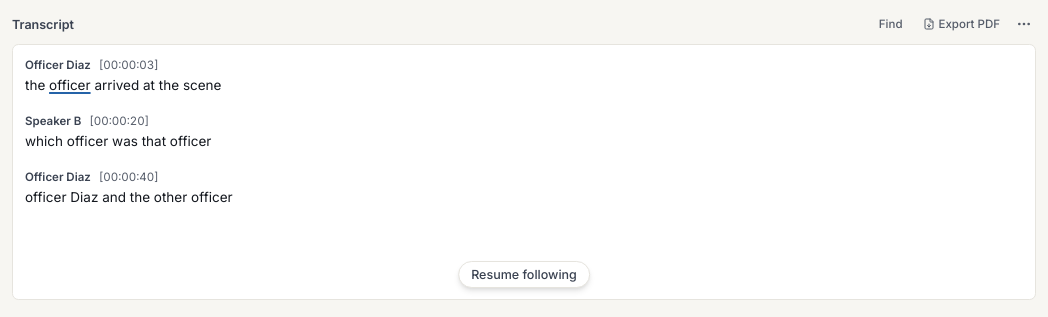
Test: TranscriptPane › a manual wheel scroll pauses follow and offers Resume following
Click the button "Resume following": (524, 274) [458, 261, 590, 288]
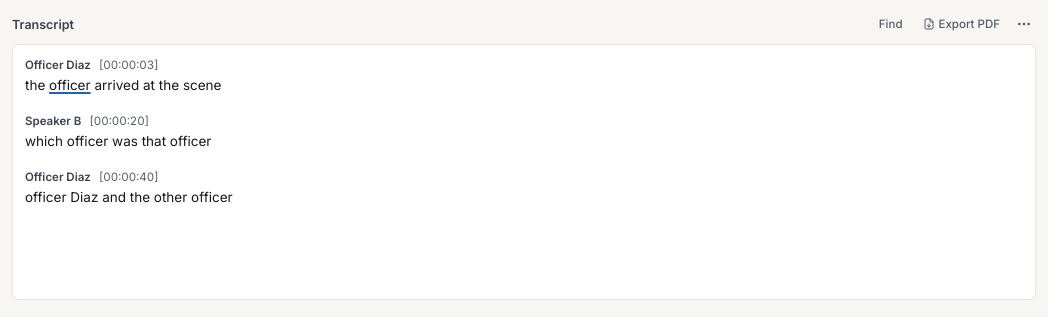
Expected: the button "Resume following" is gone
